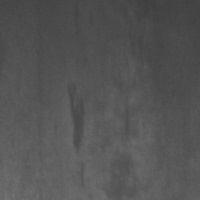inclusion: (60, 75, 91, 161), (116, 88, 139, 150)
